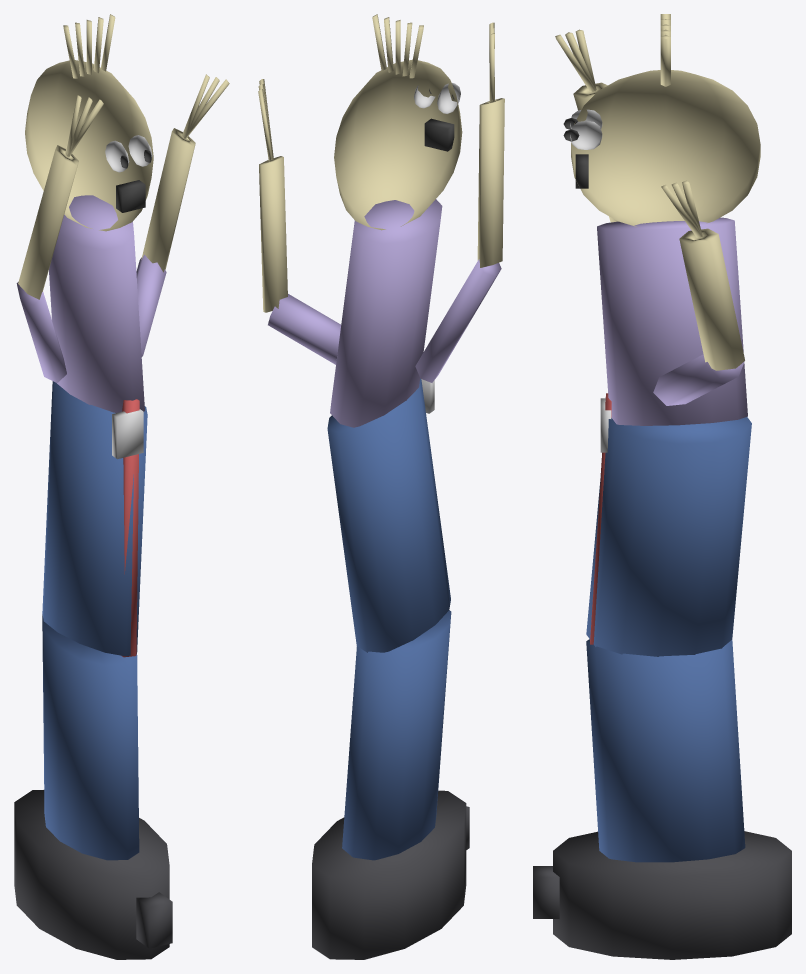
Rendered from inflatable-mascot.glb.
The picture shows the model from 3 angles, left to right: view 1: azimuth 30°, elevation 25°; view 2: azimuth 150°, elevation 25°; view 3: azimuth 270°, elevation 25°; orthographic projection.
Parts seen in each view (by area): view 1: world; view 2: world; view 3: world.
Boxes of the visible parts, bbox=[...] form: world: bbox=[14, 14, 229, 959]; world: bbox=[258, 14, 504, 959]; world: bbox=[533, 14, 791, 959].
Size of the model in its own units: 2.2 by 8.5 by 2.2.
